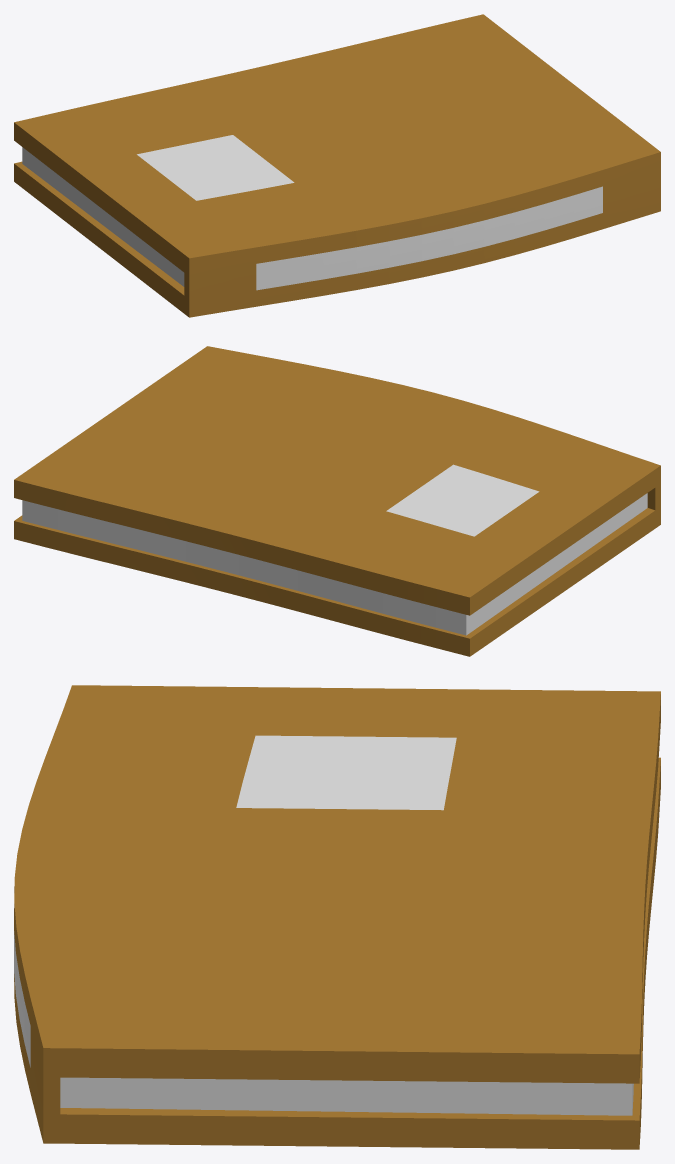
Rendered from buku 6_Scene.fbx.
3 views of the same model, one above another, from view 1: azimuth 30°, elevation 25°; view 2: azimuth 150°, elevation 25°; view 3: azimuth 270°, elevation 25° (orthographic). The views are drawn at different scales.
Visible parts, largest first — view 1: Cube.032; view 2: Cube.032; view 3: Cube.032.
Boxes of the visible parts, box(x1,y1,x2,y2) form: Cube.032: box(14, 14, 660, 317); Cube.032: box(14, 346, 660, 656); Cube.032: box(14, 685, 660, 1149).
Size of the model in its own units: 29.25 by 3.52 by 21.66.
